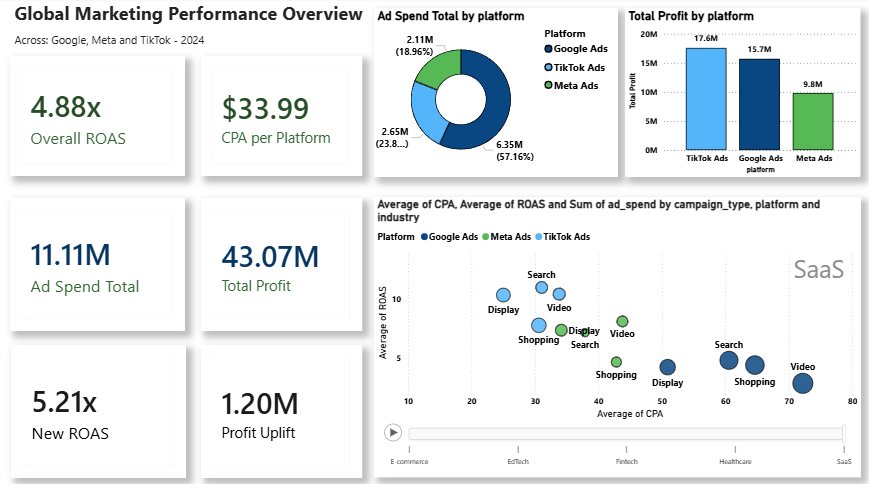

This screenshot's page, from the dashboard's own definition file:
{"tool":"powerbi","page":{"name":"Executive Summary","canvas":[1280,720],"ordinal":0},"visuals":[{"type":"textbox","box":[18.6,0,534.3,47.1],"z":0},{"type":"textbox","box":[19.1,47,355.6,32.3],"z":1000},{"type":"cardVisual","fields":{"Data":["global_ads_performance_dataset.Overall ROAS"]},"box":[17.6,86.7,257.1,176.3],"z":2000},{"type":"cardVisual","fields":{"Data":["global_ads_performance_dataset.CPA per Platform"]},"box":[298.3,86.7,236.6,176.3],"z":3000},{"type":"cardVisual","fields":{"Data":["global_ads_performance_dataset.Ad Spend Total"]},"box":[17.6,295.3,257.1,195.4],"z":4000},{"type":"cardVisual","fields":{"Data":["global_ads_performance_dataset.Total Profit"]},"box":[298.3,295.3,236.6,195.4],"z":5000},{"type":"cardVisual","fields":{"Data":["daily_reallocation_ledger.Profit Uplift"]},"box":[298.3,511.3,236.6,195.4],"z":6000},{"type":"cardVisual","fields":{"Data":["daily_reallocation_ledger.New Enterprise ROAS"]},"box":[19.1,511.3,257.1,195.4],"z":7000},{"type":"donutChart","fields":{"Category":["global_ads_performance_dataset.platform"],"Y":["global_ads_performance_dataset.Ad Spend Total"]},"box":[552.6,16,358.3,247.8],"z":8000},{"type":"columnChart","fields":{"Category":["global_ads_performance_dataset.platform"],"Y":["global_ads_performance_dataset.Total Profit"]},"box":[921.7,16,345.8,247.8],"z":9000},{"type":"scatterChart","fields":{"Series":["global_ads_performance_dataset.platform"],"Size":["Sum(global_ads_performance_dataset.ad_spend)"],"Play":["global_ads_performance_dataset.industry"],"Category":["global_ads_performance_dataset.campaign_type","global_ads_performance_dataset.country"],"X":["Avg(global_ads_performance_dataset.CPA)"],"Y":["Avg(global_ads_performance_dataset.ROAS)"]},"box":[552.6,294.2,714.9,411.8],"z":10000}]}

Visuals, with their boxes in screenshot pixels (x1, y1, x2, y2), scaled from the page's 1280x720 canvas onto the 869x484 screenshot:
textbox: crop(13, 0, 375, 32)
textbox: crop(13, 32, 254, 53)
cardVisual - global_ads_performance_dataset.Overall ROAS: crop(12, 58, 186, 177)
cardVisual - global_ads_performance_dataset.CPA per Platform: crop(203, 58, 363, 177)
cardVisual - global_ads_performance_dataset.Ad Spend Total: crop(12, 199, 186, 330)
cardVisual - global_ads_performance_dataset.Total Profit: crop(203, 199, 363, 330)
cardVisual - daily_reallocation_ledger.Profit Uplift: crop(203, 344, 363, 475)
cardVisual - daily_reallocation_ledger.New Enterprise ROAS: crop(13, 344, 188, 475)
donutChart - global_ads_performance_dataset.platform x global_ads_performance_dataset.Ad Spend Total: crop(375, 11, 618, 177)
columnChart - global_ads_performance_dataset.platform x global_ads_performance_dataset.Total Profit: crop(626, 11, 861, 177)
scatterChart - global_ads_performance_dataset.platform x Sum(global_ads_performance_dataset.ad_spend): crop(375, 198, 861, 475)
